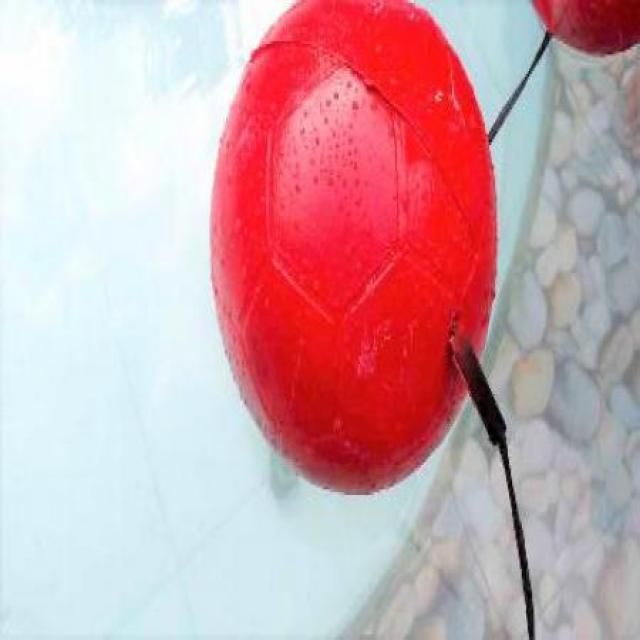buoy: (207, 3, 497, 495)
